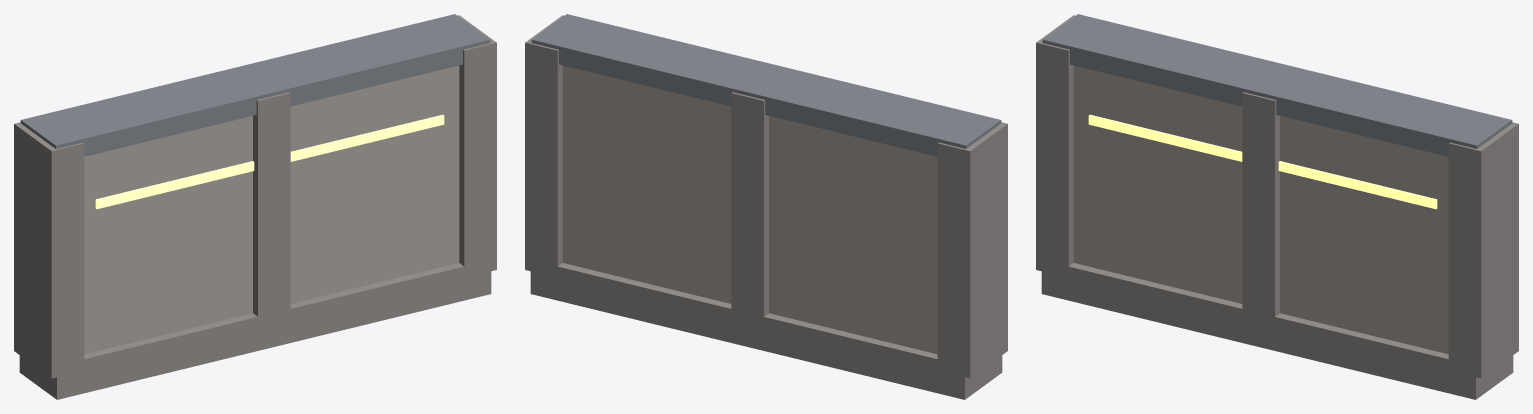
Rendered from wall_straight_v1.glb.
3 views of the same model, side by side, from view 1: azimuth 30°, elevation 25°; view 2: azimuth 150°, elevation 25°; view 3: azimuth 330°, elevation 25° (orthographic).
Parts seen in each view (by area): view 1: wall_straight; view 2: wall_straight; view 3: wall_straight.
Part boxes in pixels (x1,y1,x2,y2): wall_straight: (14,14,496,399); wall_straight: (525,14,1007,399); wall_straight: (1036,14,1518,399).
Size of the model in its own units: 4.1 by 2.23 by 0.6.
